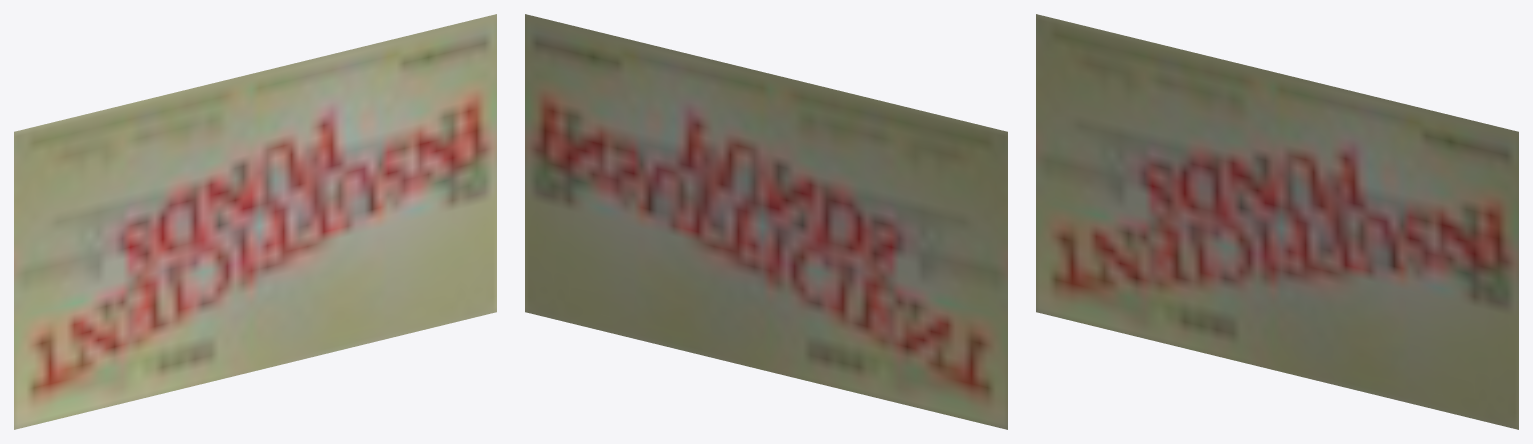
The model's file is bounced-check.glb.
3 views of the same model, side by side, from view 1: azimuth 30°, elevation 25°; view 2: azimuth 150°, elevation 25°; view 3: azimuth 330°, elevation 25° (orthographic).
Visible parts, largest first — view 1: bounced-check; view 2: bounced-check; view 3: bounced-check.
Boxes of the visible parts, bbox=[...] form: bounced-check: bbox=[14, 14, 496, 429]; bounced-check: bbox=[525, 14, 1007, 429]; bounced-check: bbox=[1036, 14, 1518, 429].
Bounding box in the file's own units: 0.2073 × 0.1223 × 0.
1 material, 1 textured.
